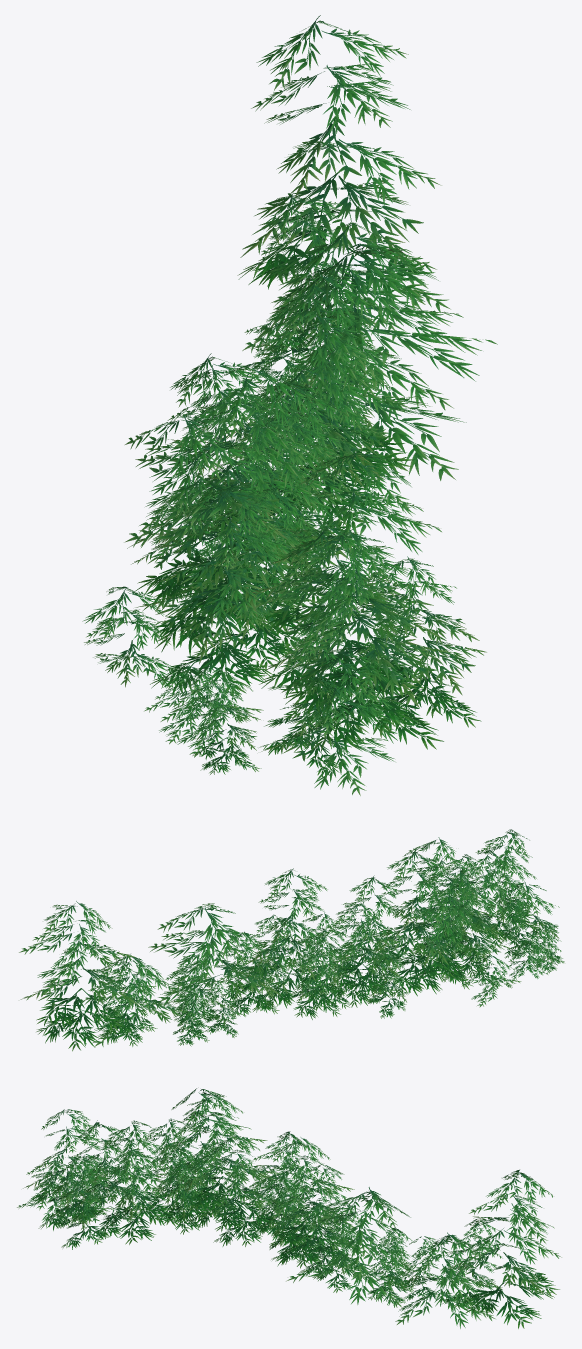
Rendered from Area_11_23.fbx.
3 renders of one model, top to bottom at view 1: azimuth 30°, elevation 25°; view 2: azimuth 150°, elevation 25°; view 3: azimuth 270°, elevation 25°, orthographic. The views are drawn at different scales.
Parts seen in each view (by area): view 1: Area_11_23; view 2: Area_11_23; view 3: Area_11_23.
Part boxes in pixels (x1,y1,x2,y2): Area_11_23: [82, 15, 497, 795]; Area_11_23: [19, 829, 564, 1051]; Area_11_23: [17, 1088, 561, 1328].
Bounding box in the file's own units: 3877 × 1796 × 5574.
